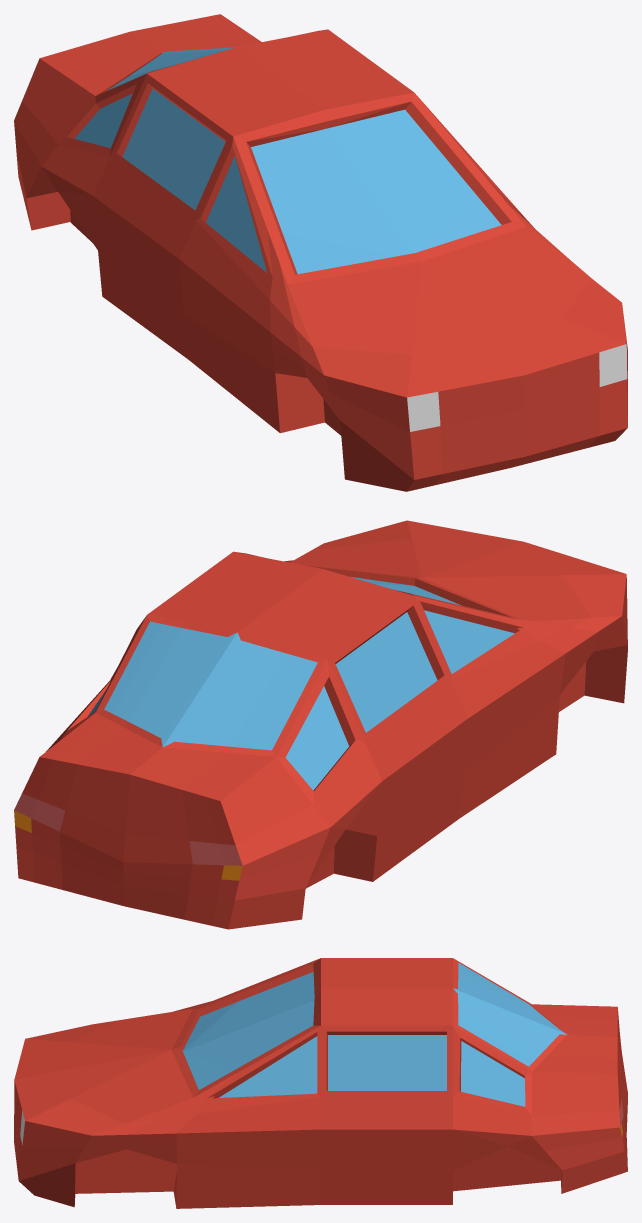
Rendered from red sedan.fbx.
The picture shows the model from 3 angles, top to bottom: view 1: azimuth 30°, elevation 25°; view 2: azimuth 150°, elevation 25°; view 3: azimuth 270°, elevation 25°; orthographic projection. The views are drawn at different scales.
Visible parts, largest first — view 1: Cube; view 2: Cube; view 3: Cube.
Part boxes in pixels (<box>): Cube: <box>14,14,627,491</box>; Cube: <box>14,520,627,929</box>; Cube: <box>14,958,627,1208</box>.
Size of the model in its own units: 399 by 283 by 930.
